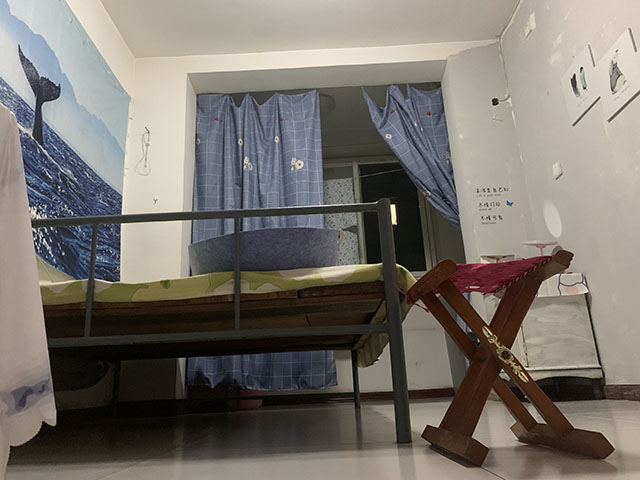bed: (32, 195, 419, 444)
cabinet: (508, 270, 607, 400)
curtain: (187, 85, 345, 401)
stool: (407, 249, 617, 468)
